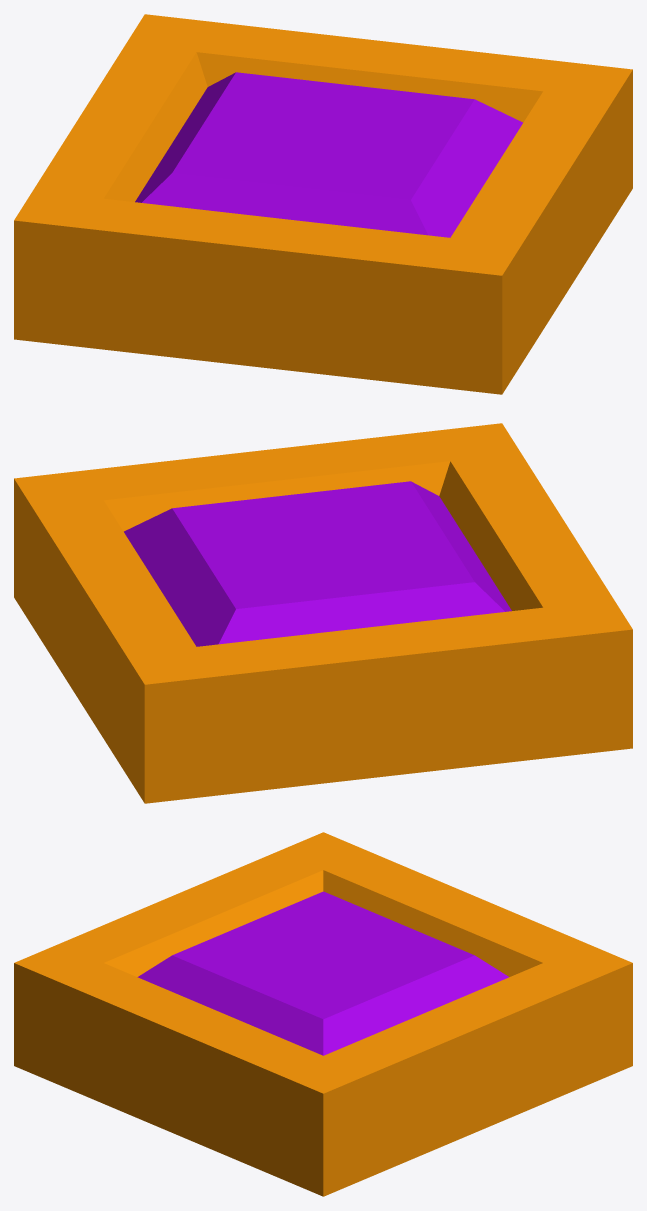
3 views of the same model, one above another, from view 1: azimuth 30°, elevation 25°; view 2: azimuth 150°, elevation 25°; view 3: azimuth 270°, elevation 25° (orthographic). The views are drawn at different scales.
Visible parts, largest first — view 1: Cylinder.002; view 2: Cylinder.002; view 3: Cylinder.002.
Part boxes in pixels (<box>): Cylinder.002: <box>14,14,632,394</box>; Cylinder.002: <box>14,423,632,803</box>; Cylinder.002: <box>14,832,632,1196</box>.
Size of the model in its own units: 200 by 39.45 by 200.
